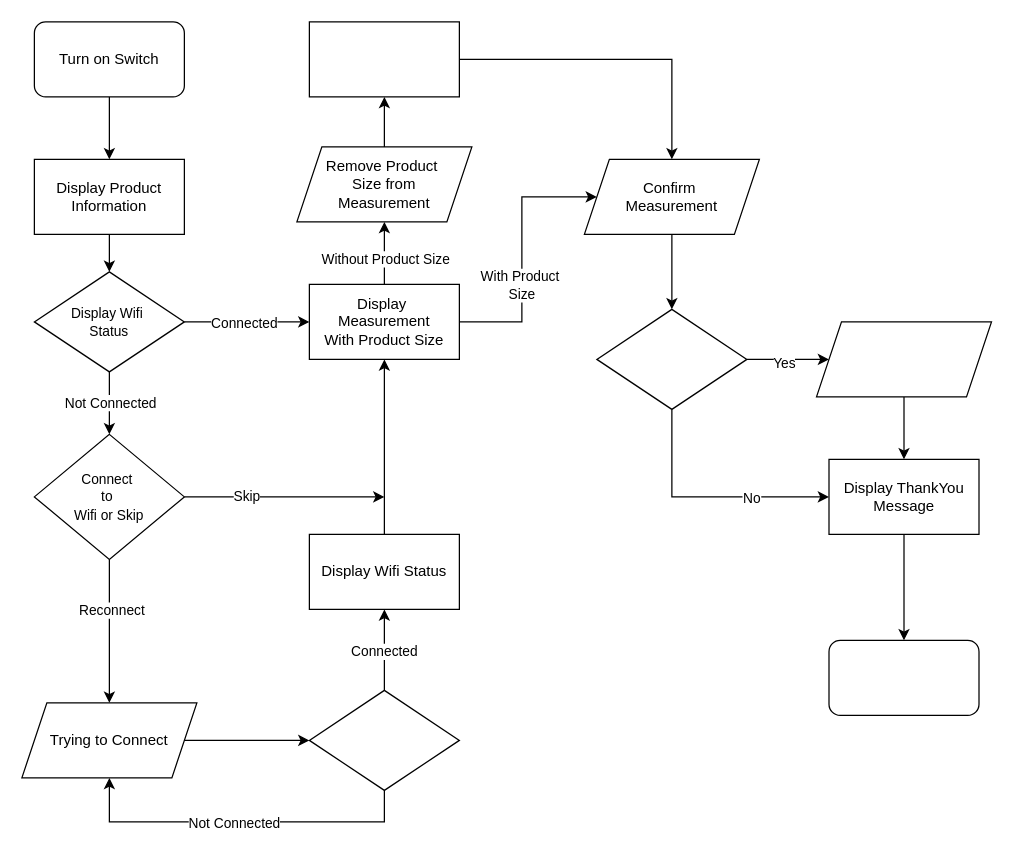
Image size: 1014x854. Some labels were removed from this diagram. Here are the shapes that lost their labels. From the top down, the box of each, then its label:
(308, 21, 459, 97): Display Measurement Without Product Size
(596, 308, 747, 409): Send to Phone
(815, 321, 992, 397): Display Sent Message
(828, 639, 979, 715): Turn off Switch
(308, 689, 459, 790): Connected or Not Yet
